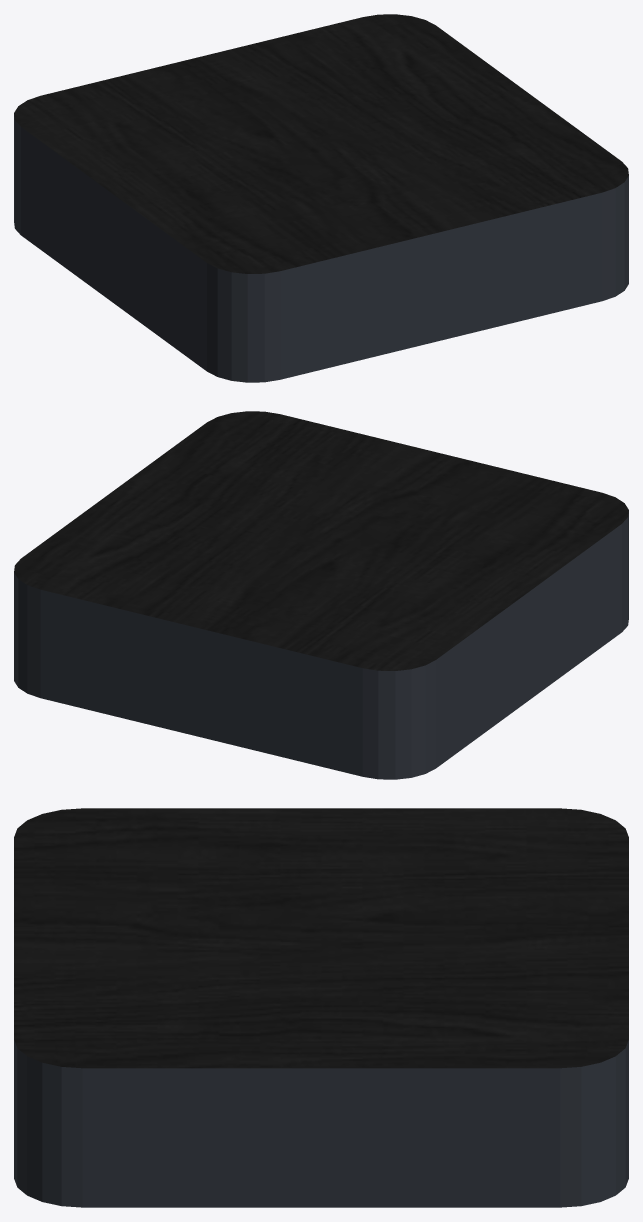
File: Cell.fbx
3 renders of one model, top to bottom at view 1: azimuth 30°, elevation 25°; view 2: azimuth 150°, elevation 25°; view 3: azimuth 270°, elevation 25°, orthographic. The views are drawn at different scales.
Visible parts, largest first — view 1: Cell; view 2: Cell; view 3: Cell.
Part boxes in pixels (left/top/right/bottom): Cell: left=14, top=14, right=628, bottom=382; Cell: left=14, top=411, right=628, bottom=779; Cell: left=14, top=808, right=628, bottom=1207.
Bounding box in the file's own units: 150 × 37.5 × 150.
2 materials, 1 textured.
